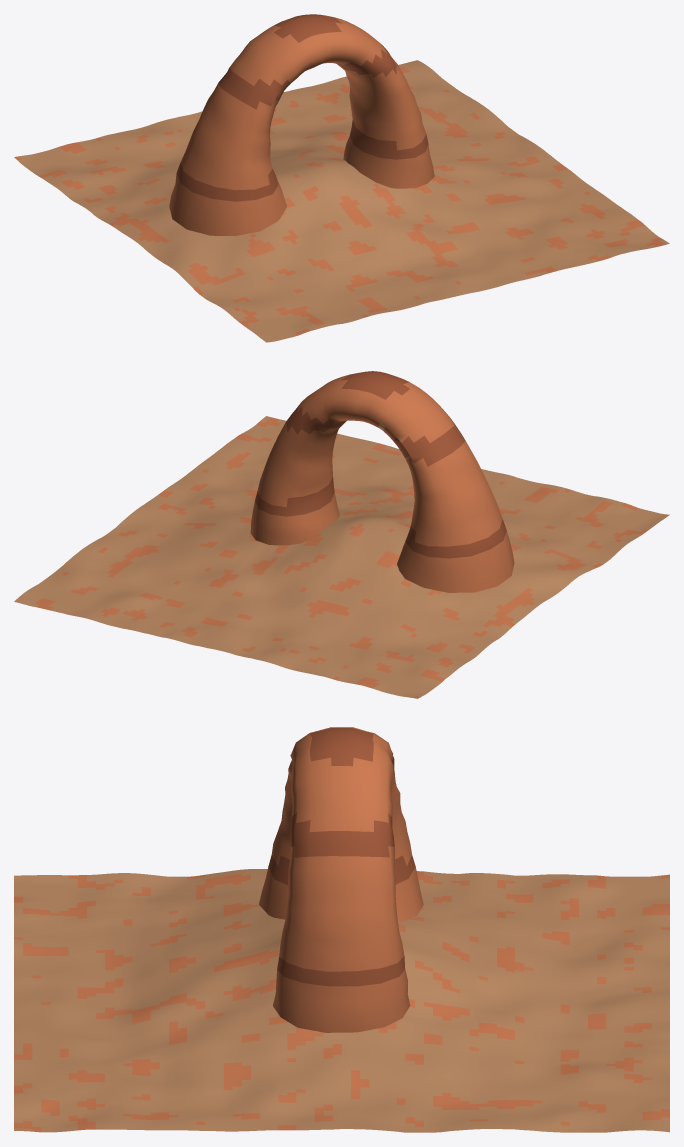
Rendered from landmark-arch-hi.glb.
The picture shows the model from 3 angles, top to bottom: view 1: azimuth 30°, elevation 25°; view 2: azimuth 150°, elevation 25°; view 3: azimuth 270°, elevation 25°; orthographic projection. The views are drawn at different scales.
Visible parts, largest first — view 1: arch.001; view 2: arch.001; view 3: arch.001.
Boxes of the visible parts, x1,y1,x2,y2 form: arch.001: (14, 14, 669, 342); arch.001: (14, 371, 669, 698); arch.001: (14, 727, 669, 1132).
Bounding box in the file's own units: 2.24 × 1 × 2.42.
